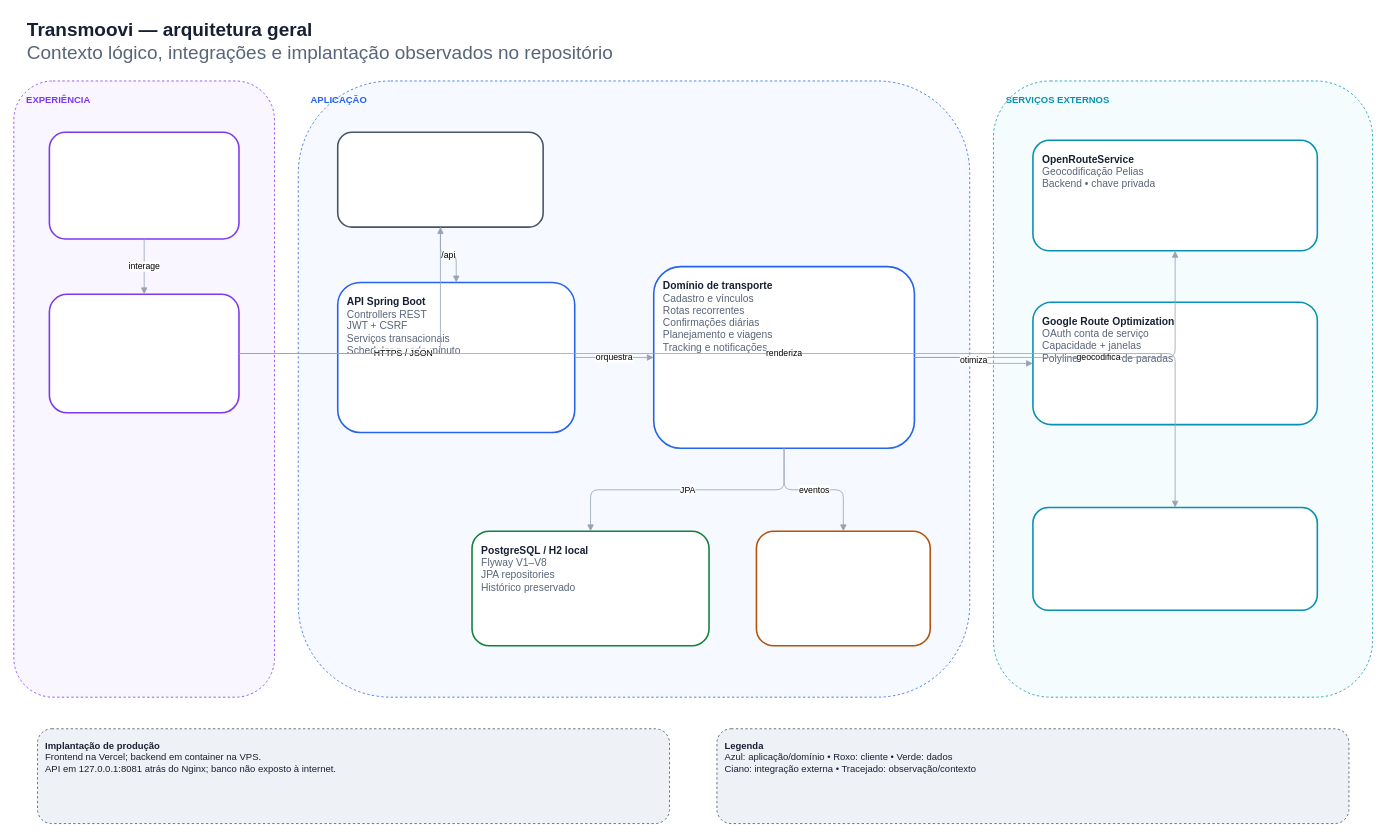
The diagram is 1386 pixels wide and 837 high, and some of its shapes have lost their labels. Here are the shapes that lost their labels. From the top down, the centre of each, then its label:
(143,185): Usuários Aluno Motorista Administrador
(440,179): Entrada HTTPS Nginx / API pública CORS + cookies seguros
(143,353): Web / PWA React + TypeScript Vite • Service Worker Google Maps JS
(1175,558): Google Maps JavaScript Mapa de endereço Mapa da viagem ativa
(843,588): Notificações Persistência in-app SSE em tempo real
